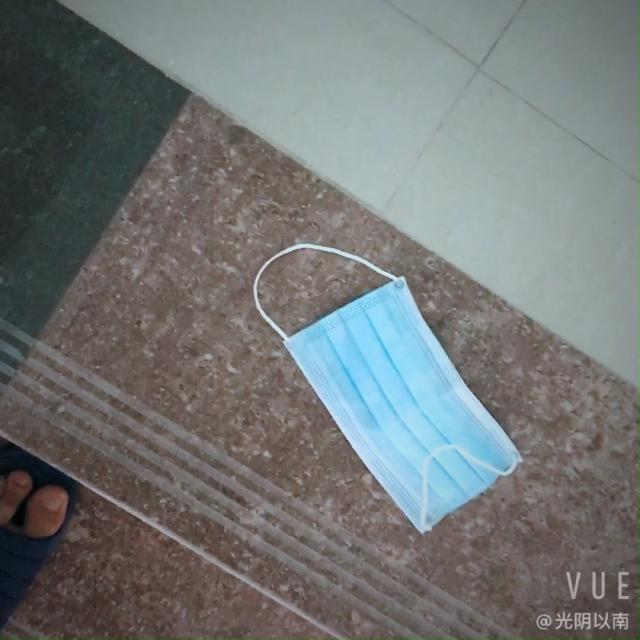non-organic waste: (267, 278, 522, 534)
